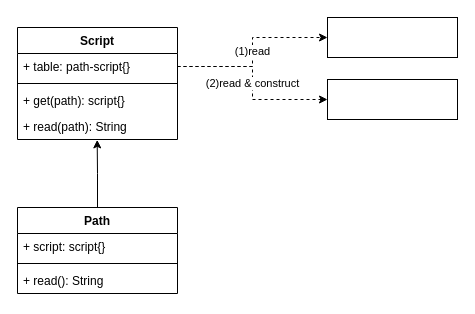
Some shapes in this 475 by 314 pixel diagram are drawn without their labels. The shapes that lost their labels are listed below. From the top down, each one's centre as x and y in pixels, then its label:
pixel 392 37: Meta: script/scipt_schema
pixel 392 99: DB: script/text
